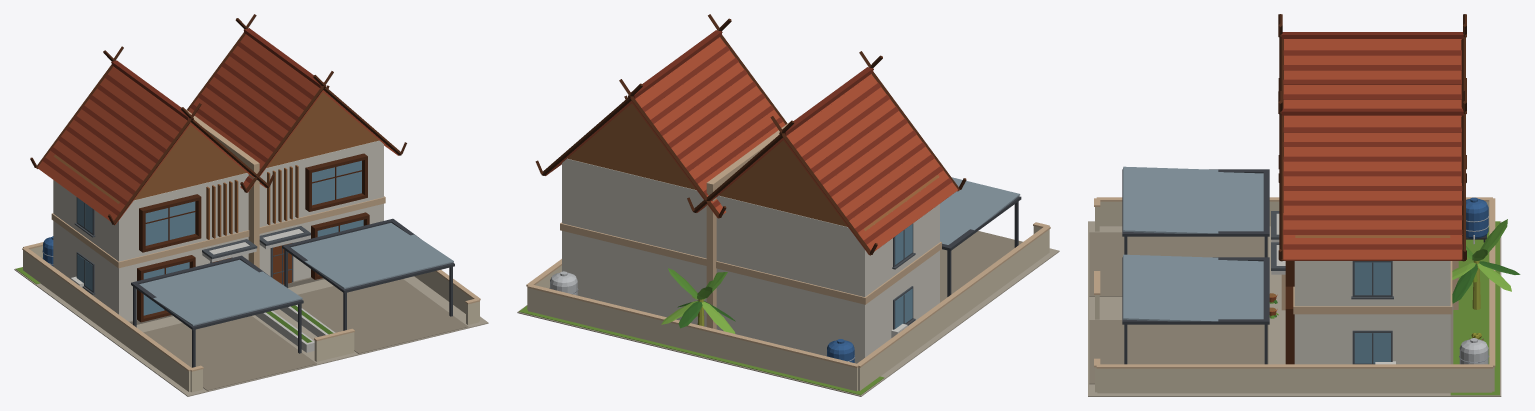
Rendered from home_2.glb.
3 views of the same model, side by side, from view 1: azimuth 30°, elevation 25°; view 2: azimuth 150°, elevation 25°; view 3: azimuth 270°, elevation 25° (orthographic). The views are drawn at different scales.
Parts seen in each view (by area): view 1: body; view 2: body; view 3: body.
Boxes of the visible parts, x1,y1,x2,y2 form: body: [14, 14, 488, 396]; body: [517, 14, 1059, 396]; body: [1088, 14, 1520, 396].
Size of the model in its own units: 15.9 by 10.94 by 16.65.
